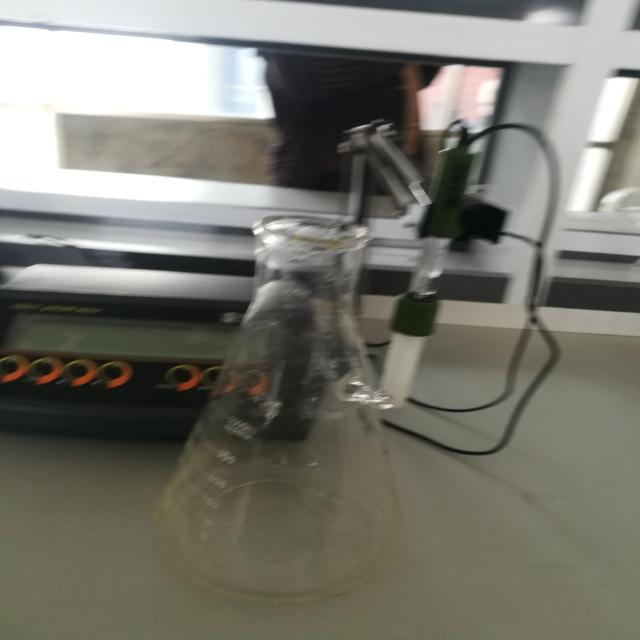Conical_Flask: (119, 162, 468, 631)
